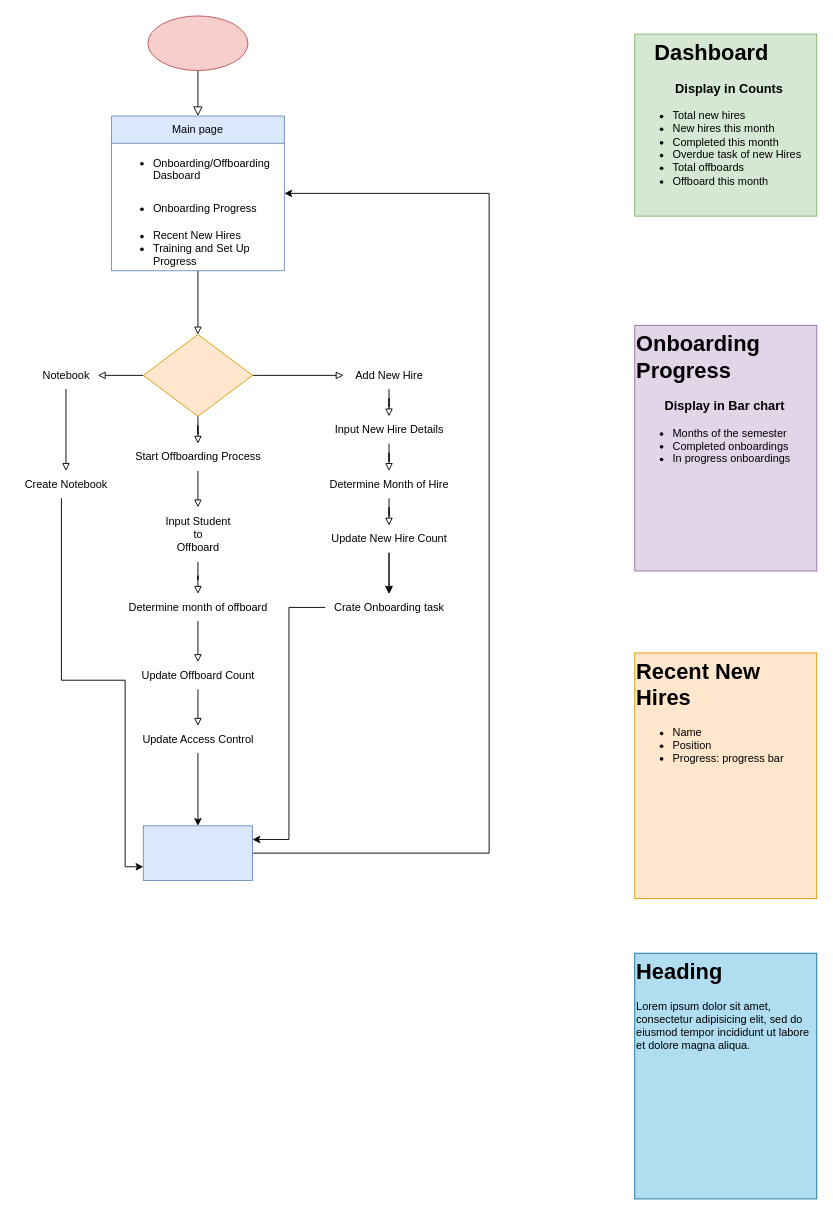
Image size: 833x1218. Some labels were removed from this diagram. The shapes that lost their labels are listed below. From the top down, each one's centre as x and y in pixels, then its label:
(x=197, y=43): Start
(x=197, y=375): Select Option (Menu)
(x=197, y=852): Return to menu
